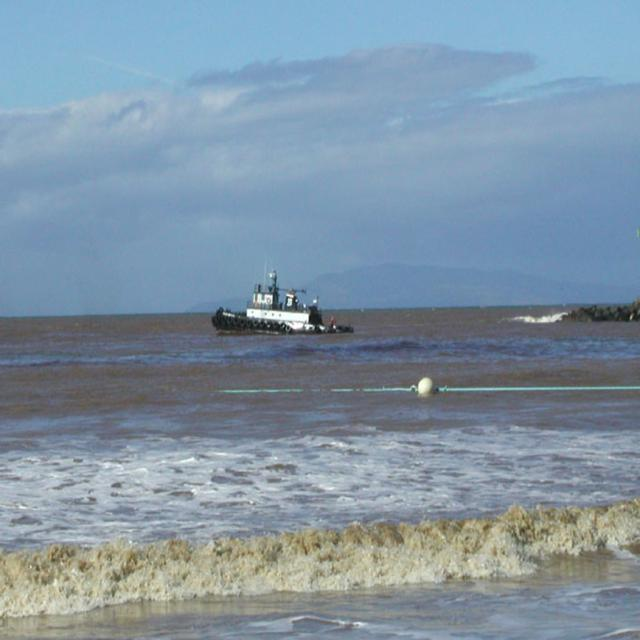Boat: (210, 262, 348, 344)
